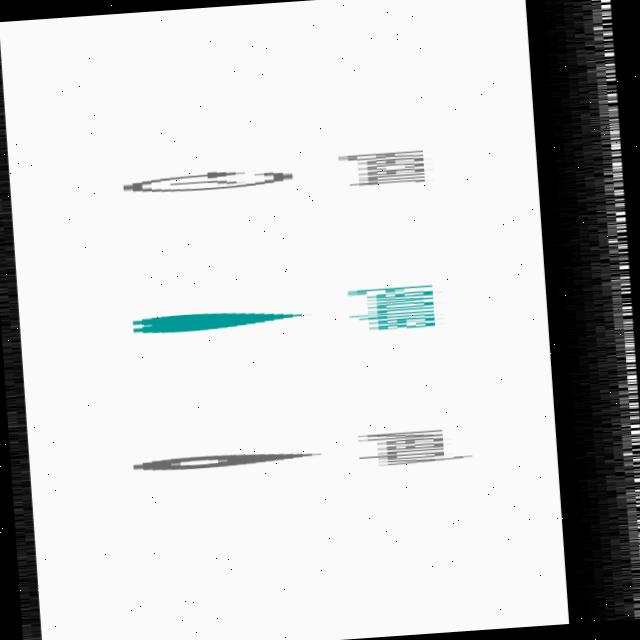QLabel: (327, 282, 442, 336), (348, 426, 468, 470), (322, 148, 437, 188)
VBottomNavigation: (0, 0, 595, 640)
VBtn: (85, 274, 492, 356), (88, 420, 494, 490), (80, 143, 470, 208)
VIcon: (120, 445, 330, 474), (122, 304, 309, 336), (118, 165, 294, 196)
